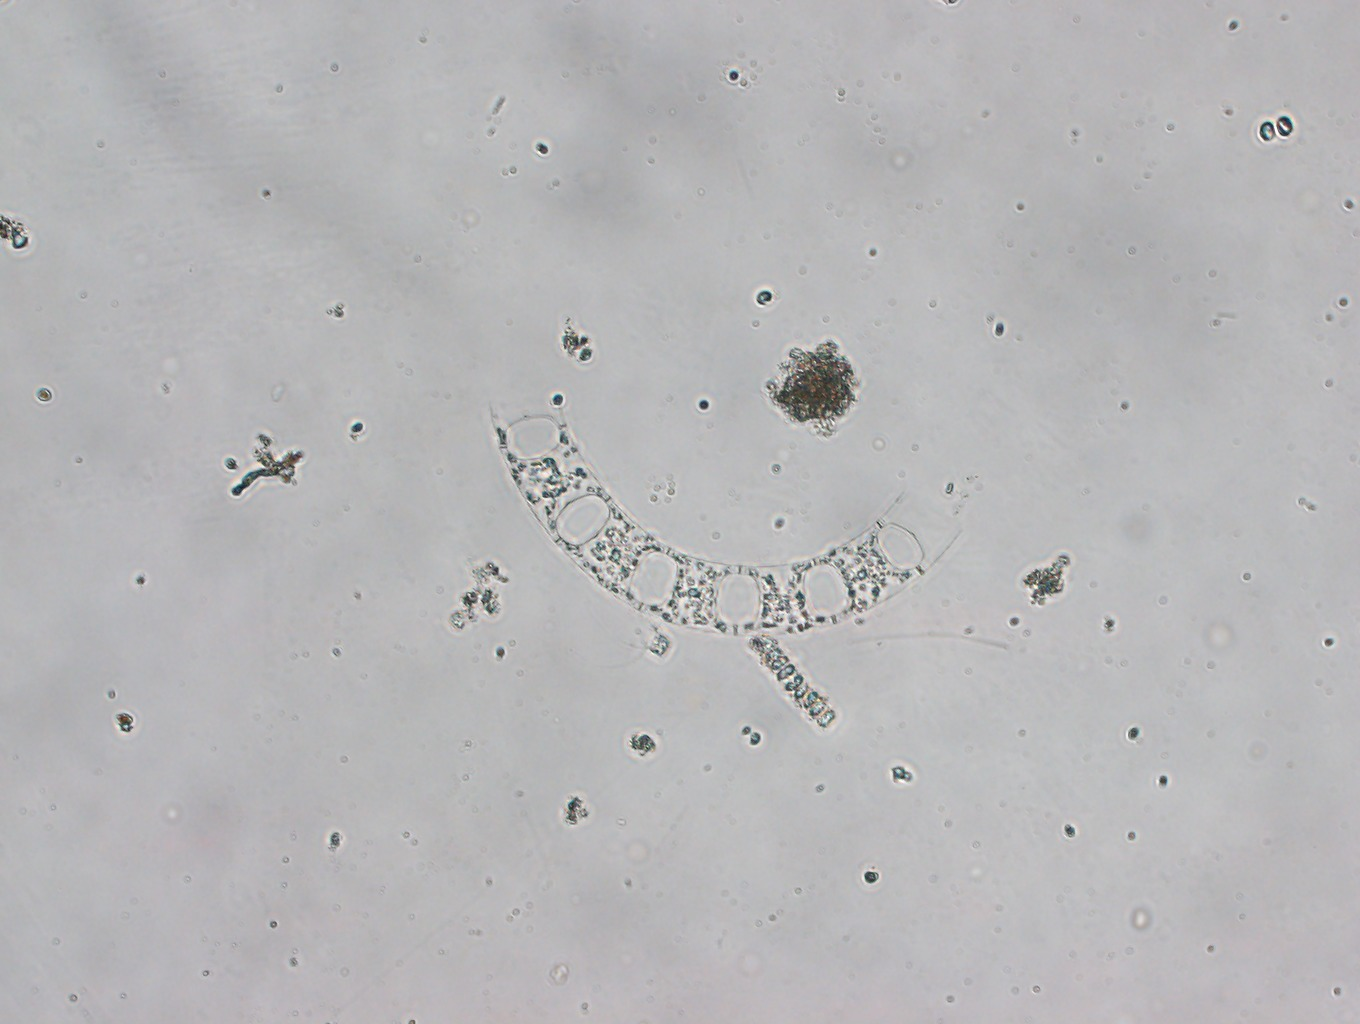eucampia: (479, 390, 967, 643)
skeletonema: (745, 635, 840, 736)
